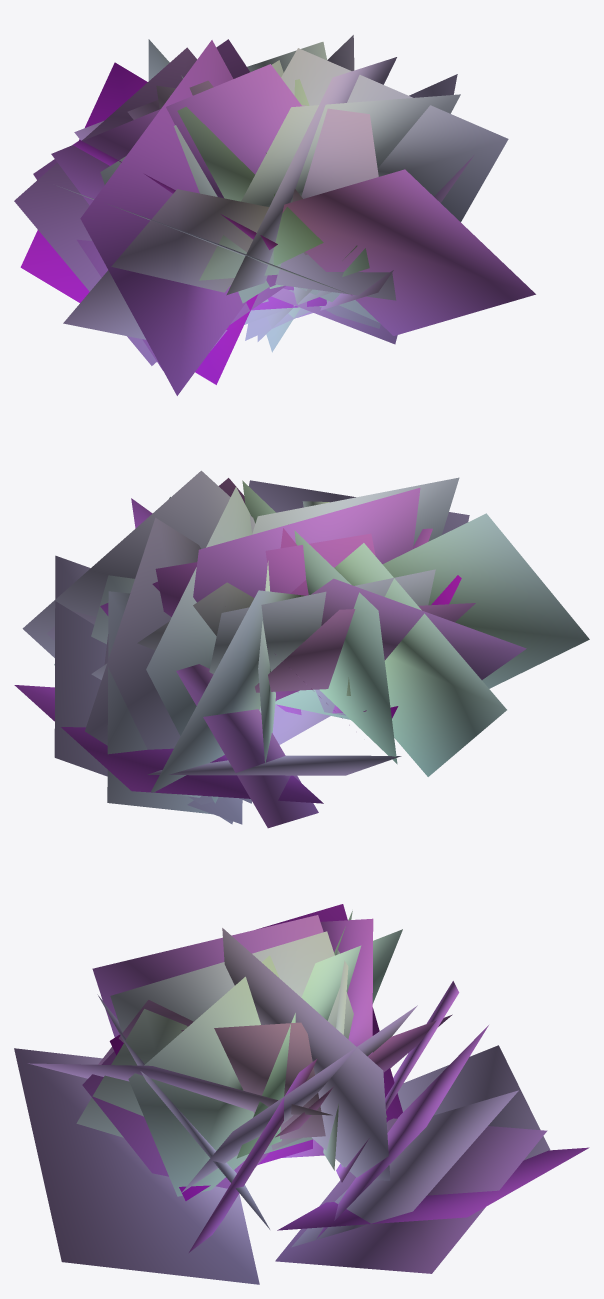
File: busch.glb
3 views of the same model, one above another, from view 1: azimuth 30°, elevation 25°; view 2: azimuth 150°, elevation 25°; view 3: azimuth 270°, elevation 25° (orthographic). The views are drawn at different scales.
Visible parts, largest first — view 1: busch_lod0; view 2: busch_lod0; view 3: busch_lod0.
Part boxes in pixels (x1,y1,x2,y2): busch_lod0: [14, 35, 535, 395]; busch_lod0: [14, 470, 589, 828]; busch_lod0: [14, 904, 589, 1284].
Size of what is drawn, in the model's own units: 3.17 by 2.28 by 3.56.
